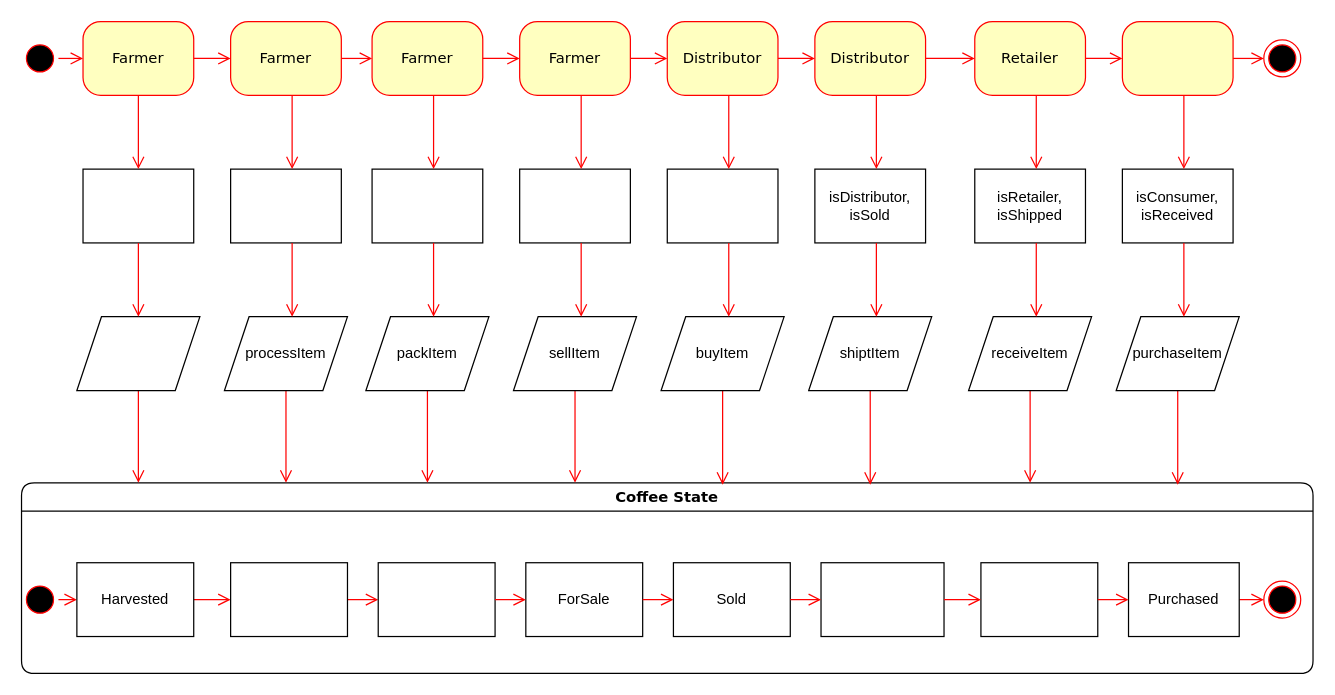
This 1335x695 diagram has some shape labels left out. Here are the shapes that lost their labels. From the top down, the centre of each, then its label:
the point at 1177,57: Consumer
the point at 138,205: isFarmer
the point at 285,205: isFarmer, isHarvested
the point at 427,205: isFarmer, isProcessed
the point at 574,205: isFarmer, isPacked
the point at 722,205: isDistributor, isForSale
the point at 138,353: harvestItem
the point at 288,599: Processed
the point at 436,599: Packed
the point at 882,599: Shipped
the point at 1039,599: Received
